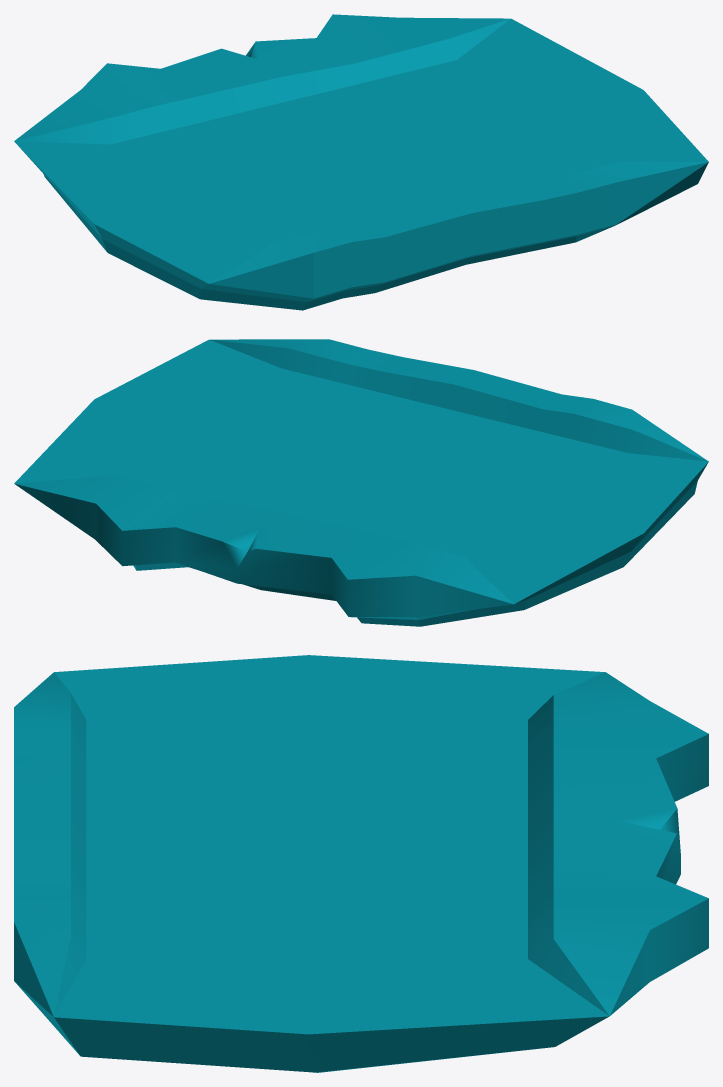
Rendered from Sml_1_NoC.fbx.
3 views of the same model, one above another, from view 1: azimuth 30°, elevation 25°; view 2: azimuth 150°, elevation 25°; view 3: azimuth 270°, elevation 25° (orthographic). The views are drawn at different scales.
Parts seen in each view (by area): view 1: Sml_3_NoC; view 2: Sml_3_NoC; view 3: Sml_3_NoC.
Boxes of the visible parts, bbox=[...] form: Sml_3_NoC: bbox=[14, 14, 708, 310]; Sml_3_NoC: bbox=[14, 339, 708, 626]; Sml_3_NoC: bbox=[14, 655, 708, 1072].
Bounding box in the file's own units: 1.85 × 0.3958 × 1.43.
